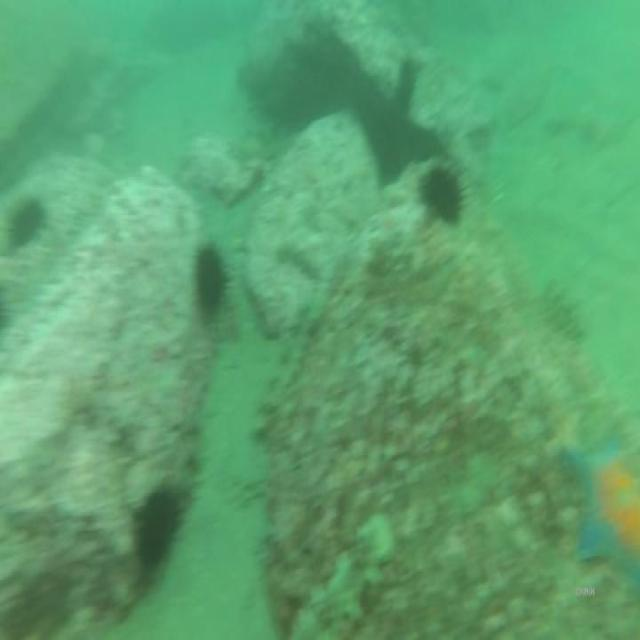echinus: (128, 477, 194, 591), (190, 236, 237, 326), (419, 153, 473, 231), (6, 194, 44, 248)
holothurian: (295, 509, 395, 640)
starfish: (563, 422, 640, 585)
